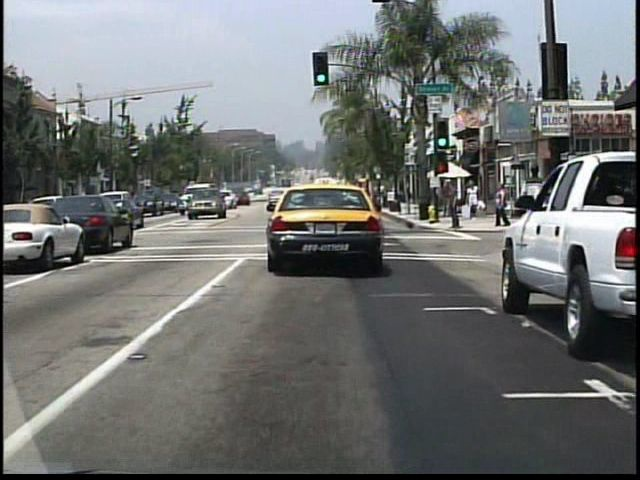person: (517, 160, 549, 255), (448, 182, 464, 233), (467, 180, 482, 219), (441, 182, 455, 218)
